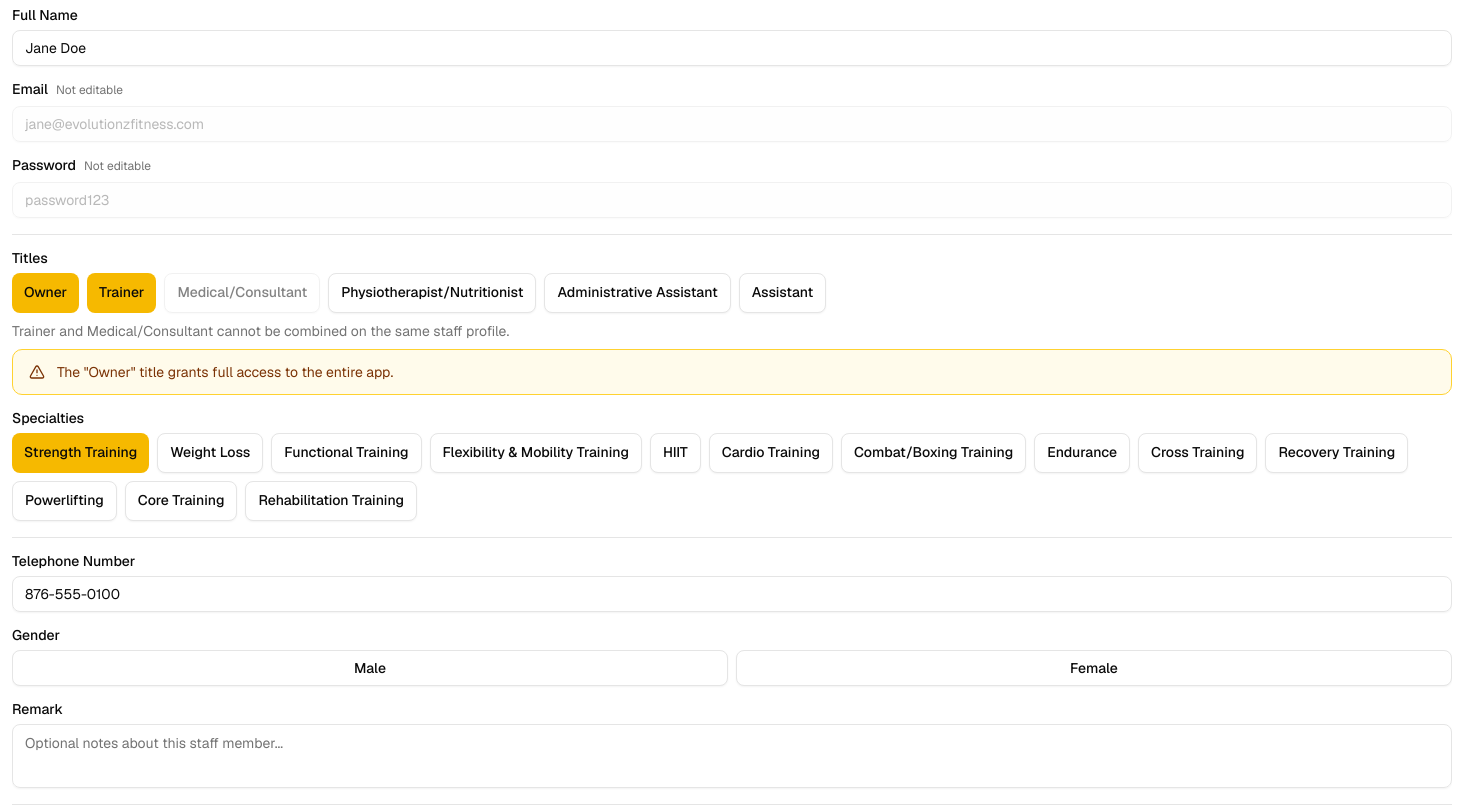
Test: StaffFormFields › clears specialties immediately when trainer is deselected
The image size is (1464, 810).
Click the button "Trainer".
click(122, 293)  # box [87,273,156,313]
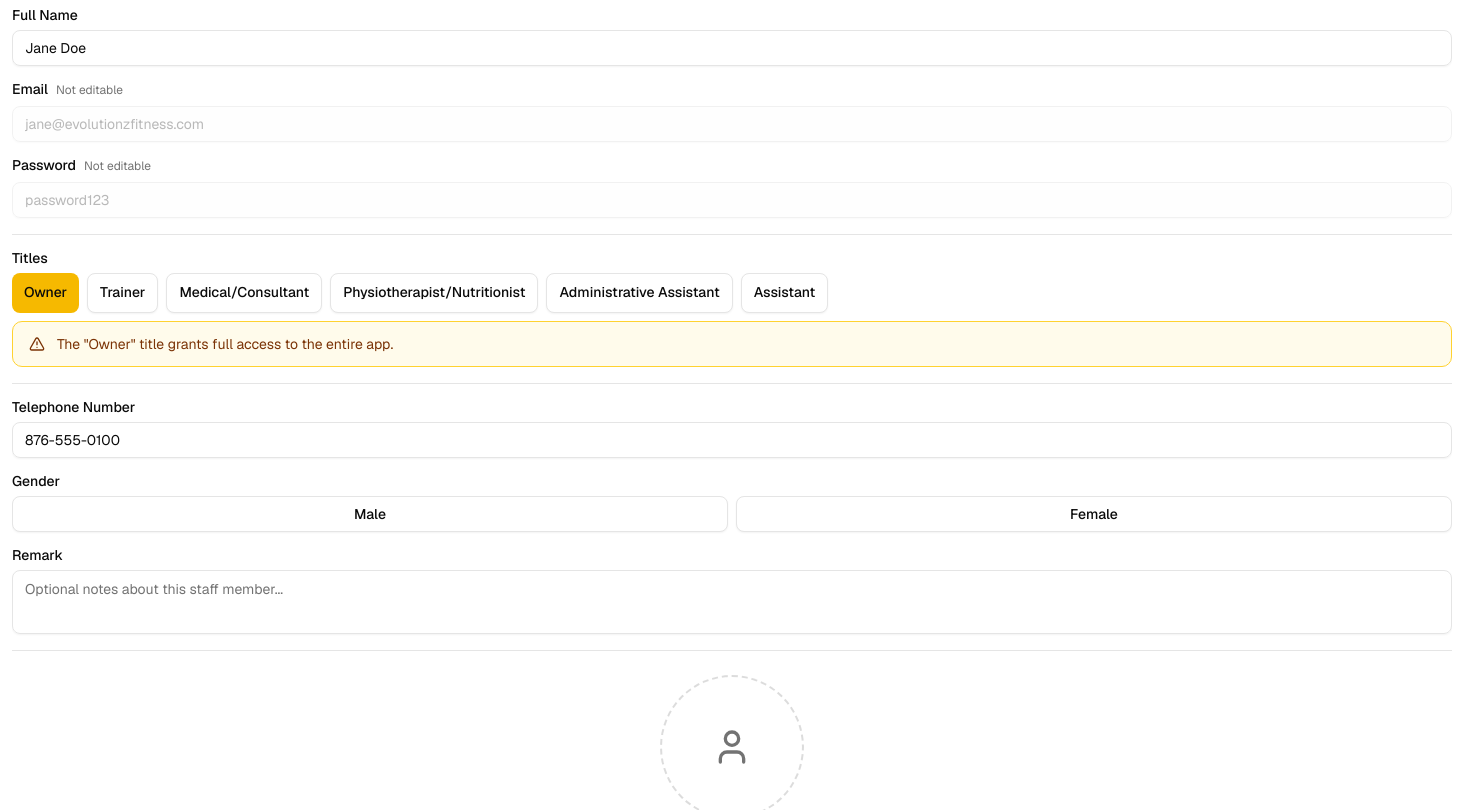
Check: the text "Specialties" is gone
